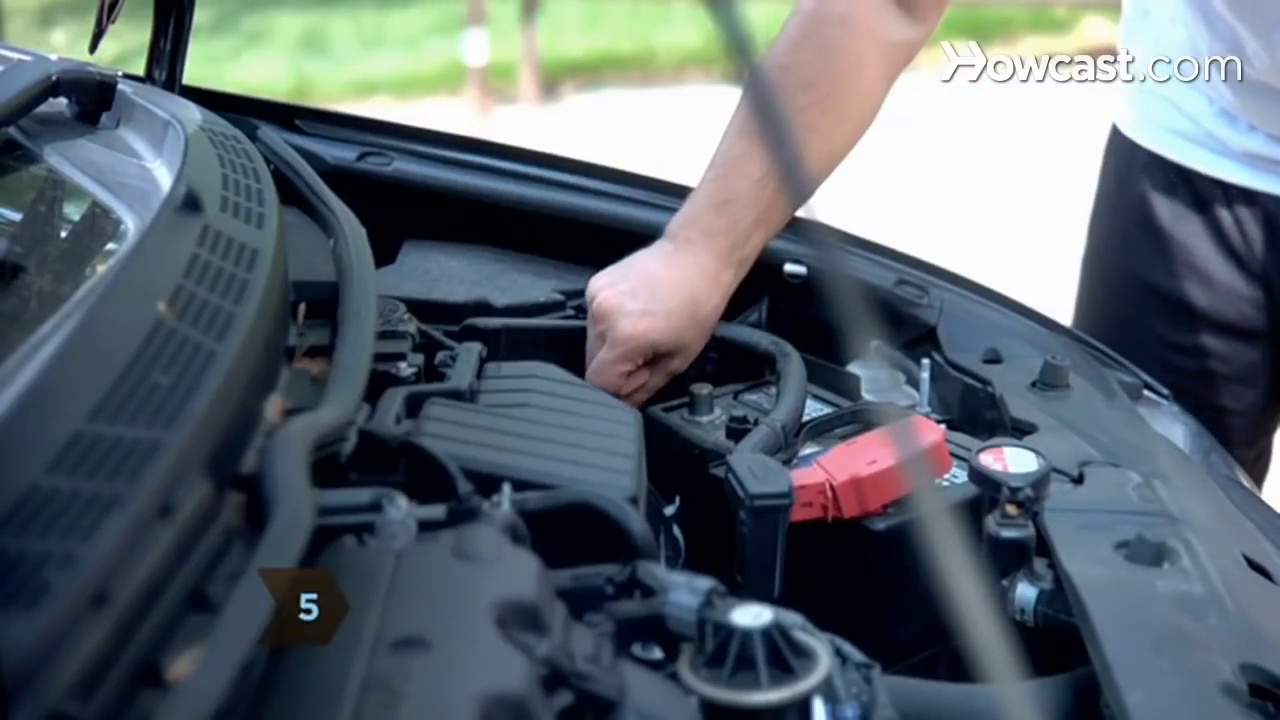battery: (644, 369, 1008, 526)
neg_disconnected: (652, 367, 746, 435)
pos_connected: (770, 413, 969, 516)
